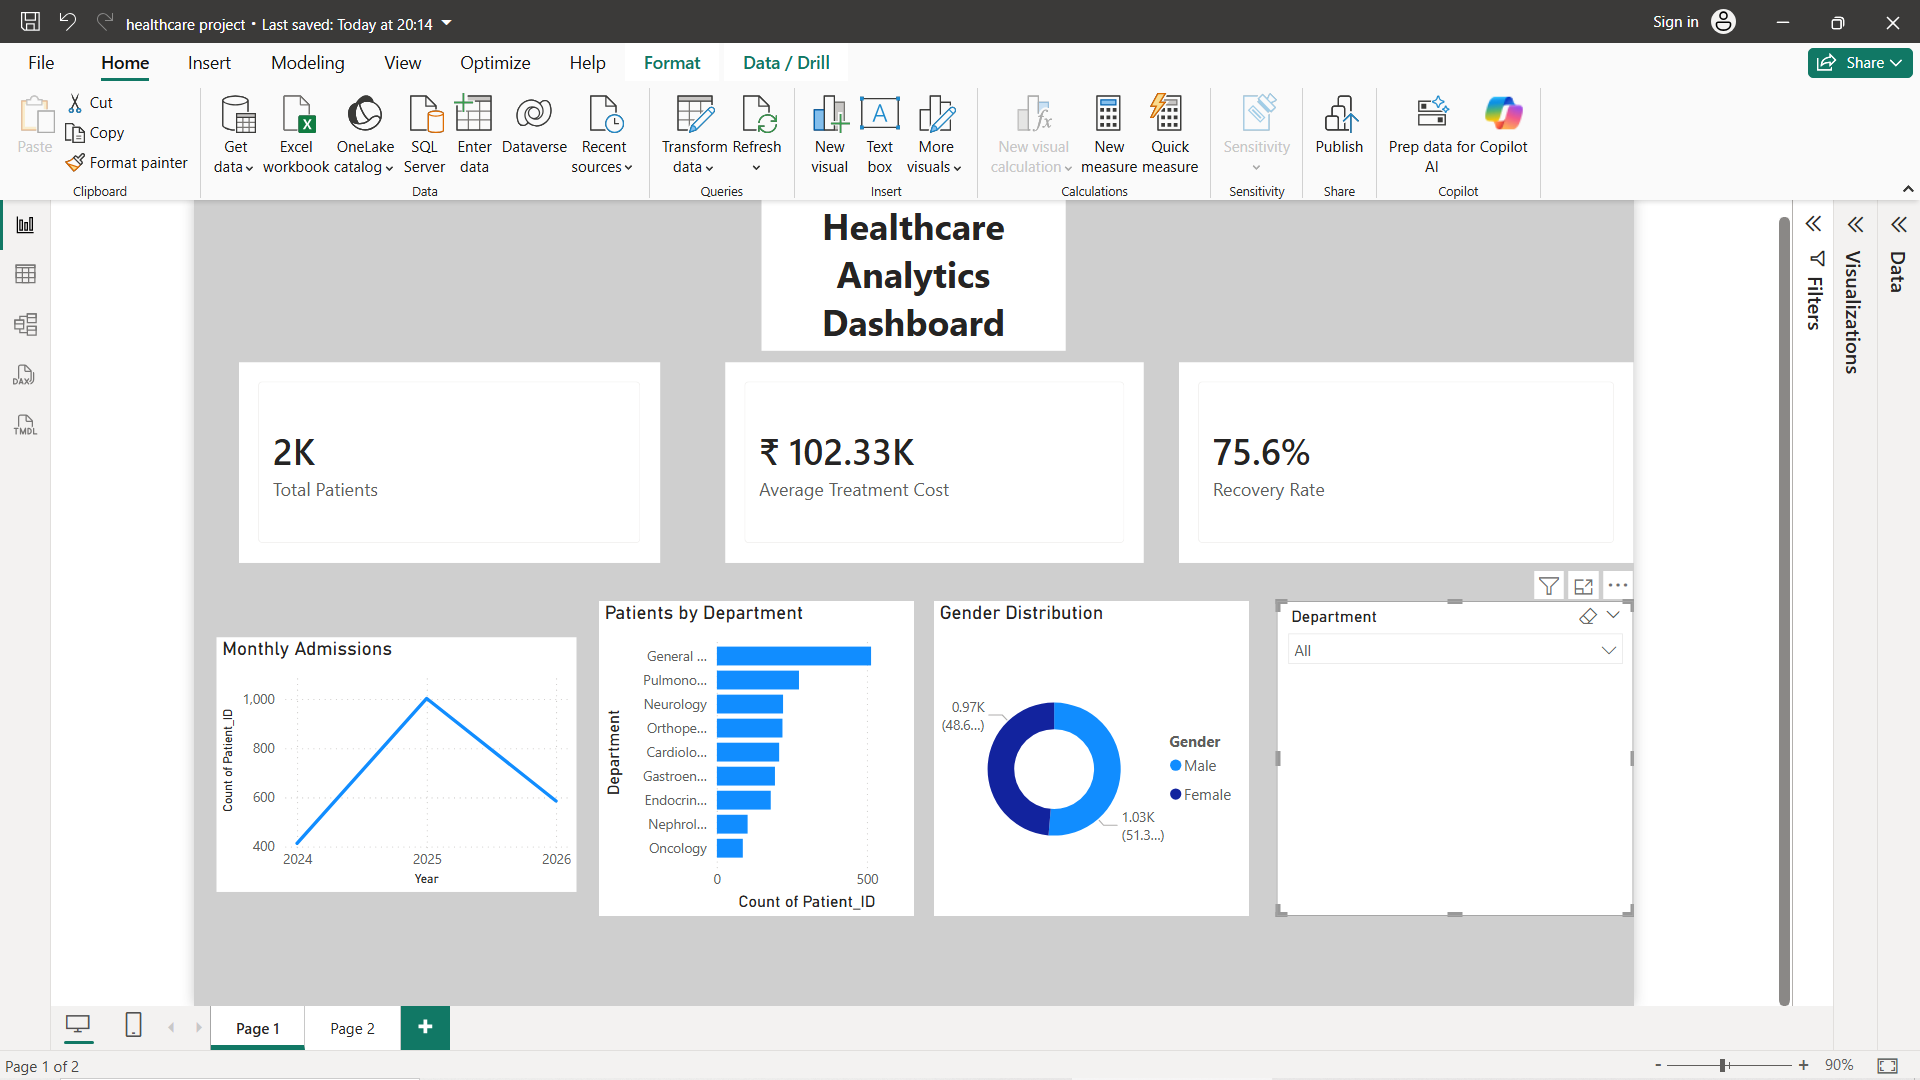

What the dashboard file says about the page in this screenshot:
{"tool":"powerbi","page":{"name":"Page 1","canvas":[1280,720],"ordinal":0},"visuals":[{"type":"clusteredBarChart","title":"Patients by Department","fields":{"Category":["healthcaredb patients.Department"],"Y":["CountNonNull(healthcaredb patients.Patient_ID)"]},"box":[360,360,280,280],"z":0},{"type":"donutChart","title":"Gender Distribution","fields":{"Category":["healthcaredb patients.Gender"],"Y":["CountNonNull(healthcaredb patients.Patient_ID)"]},"box":[658,360,280,280],"z":1},{"type":"lineChart","title":"Monthly Admissions","fields":{"Category":["healthcaredb patients.Admission_Date.Variation.Date Hierarchy.Year","healthcaredb patients.Admission_Date.Variation.Date Hierarchy.Quarter","healthcaredb patients.Admission_Date.Variation.Date Hierarchy.Month","healthcaredb patients.Admission_Date.Variation.Date Hierarchy.Day"],"Y":["CountNonNull(healthcaredb patients.Patient_ID)"]},"box":[20,392,320,226],"z":2},{"type":"slicer","title":"Department Filters","fields":{"Values":["healthcaredb patients.Department"]},"box":[962,360,318,280],"z":3},{"type":"cardVisual","fields":{"Data":["healthcaredb patients.Total Patients"]},"box":[40,148,374,178],"z":4},{"type":"cardVisual","fields":{"Data":["healthcaredb patients.Average Treatment Cost"]},"box":[472,148,372,178],"z":5},{"type":"cardVisual","fields":{"Data":["healthcaredb patients.Recovery Rate"]},"box":[876,148,404,178],"z":6},{"type":"textbox","box":[504.4,0,270,137.8],"z":8}]}

Visuals, with their boxes on the page's 1280x720 design canvas (x1, y1, x2, y2). These are canvas units, not pixel positions in the 1920x1080 screenshot, which may show the page scaled, cropped or inside an application window:
"Patients by Department" clusteredBarChart: <bbox>360, 360, 640, 640</bbox>
"Gender Distribution" donutChart: <bbox>658, 360, 938, 640</bbox>
"Monthly Admissions" lineChart: <bbox>20, 392, 340, 618</bbox>
"Department Filters" slicer: <bbox>962, 360, 1280, 640</bbox>
cardVisual - healthcaredb patients.Total Patients: <bbox>40, 148, 414, 326</bbox>
cardVisual - healthcaredb patients.Average Treatment Cost: <bbox>472, 148, 844, 326</bbox>
cardVisual - healthcaredb patients.Recovery Rate: <bbox>876, 148, 1280, 326</bbox>
textbox: <bbox>504, 0, 774, 138</bbox>
